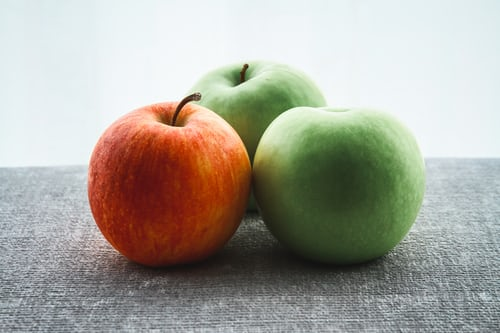apple: (247, 91, 427, 268), (85, 89, 252, 273), (187, 58, 332, 215)
